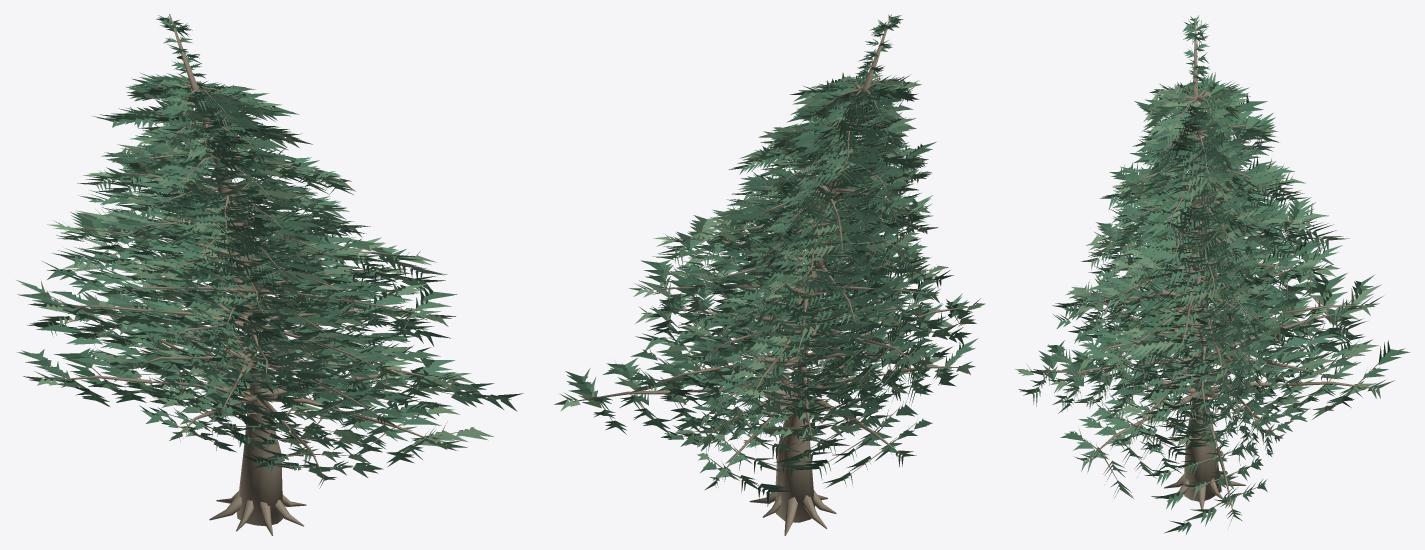
File: cedar_2.glb
3 views of the same model, side by side, from view 1: azimuth 30°, elevation 25°; view 2: azimuth 150°, elevation 25°; view 3: azimuth 270°, elevation 25° (orthographic). The views are drawn at different scales.
Visible parts, largest first — view 1: tree_conifer_ConiferLeaf, tree_conifer_ConiferLeafLight, tree_conifer_ConiferLeafDark, tree_conifer_ConiferBark; view 2: tree_conifer_ConiferLeaf, tree_conifer_ConiferLeafLight, tree_conifer_ConiferLeafDark, tree_conifer_ConiferBark; view 3: tree_conifer_ConiferLeaf, tree_conifer_ConiferLeafLight, tree_conifer_ConiferLeafDark, tree_conifer_ConiferBark.
Part boxes in pixels (box(x1,y1,x2,y2)): tree_conifer_ConiferLeaf: box(16, 15, 495, 477); tree_conifer_ConiferLeafLight: box(23, 73, 494, 488); tree_conifer_ConiferLeafDark: box(36, 75, 522, 473); tree_conifer_ConiferBark: box(39, 14, 494, 535); tree_conifer_ConiferLeaf: box(566, 14, 978, 487); tree_conifer_ConiferLeafLight: box(554, 73, 985, 489); tree_conifer_ConiferLeafDark: box(565, 75, 971, 506); tree_conifer_ConiferBark: box(573, 14, 968, 535); tree_conifer_ConiferLeaf: box(1018, 15, 1365, 526); tree_conifer_ConiferLeafLight: box(1015, 72, 1394, 525); tree_conifer_ConiferLeafDark: box(1047, 75, 1409, 534); tree_conifer_ConiferBark: box(1031, 18, 1381, 523).
Bounding box in the file's own units: 10.4 × 12.2 × 10.02.
